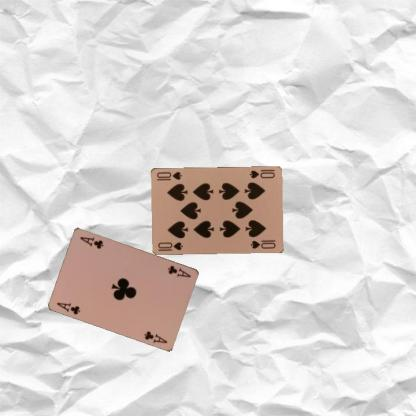10s: (246, 168, 276, 180), (155, 240, 184, 252)
Ac: (54, 300, 82, 316), (166, 263, 192, 278)
